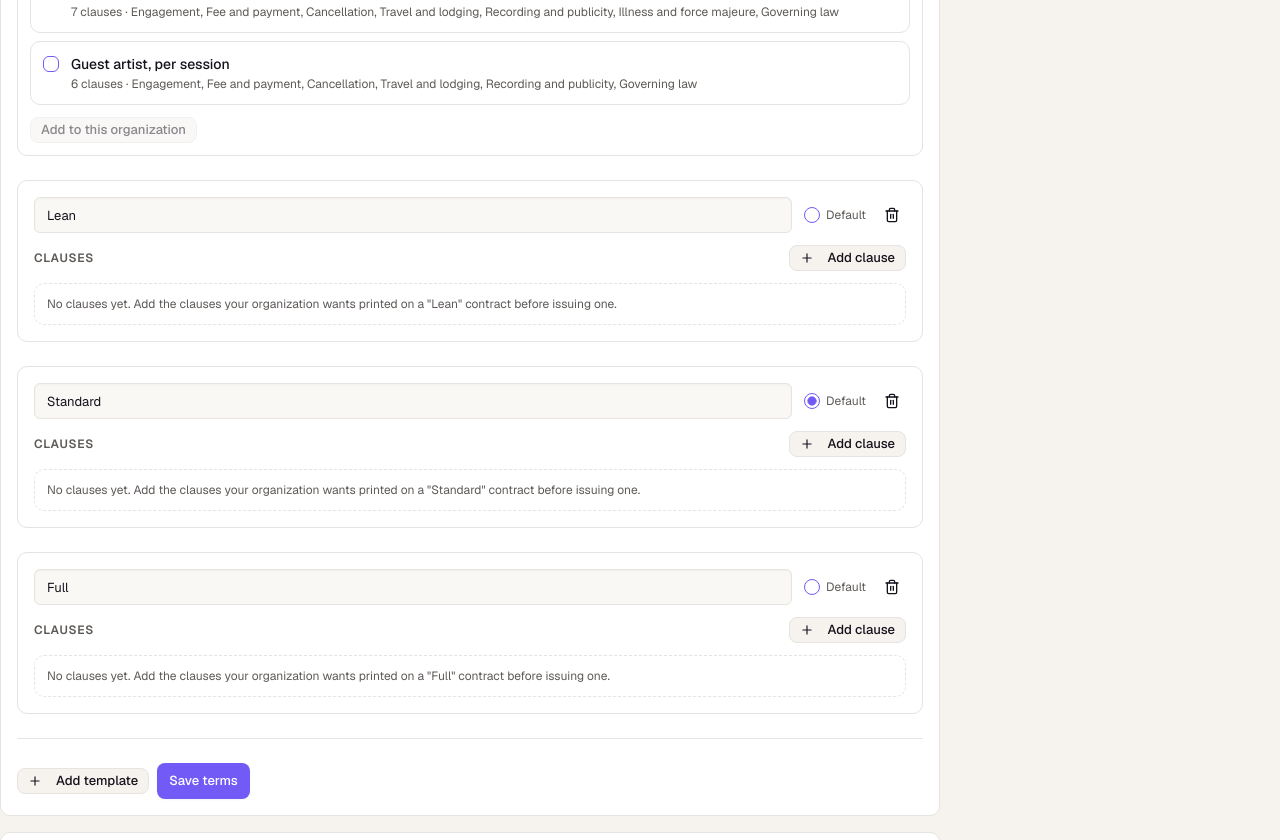
Test: HireOrdersTab › adds and removes clause rows on a variant that starts empty
(page scrolled)
Click the 2nd button "Add clause".
click(847, 444)  # box [788,431,906,457]
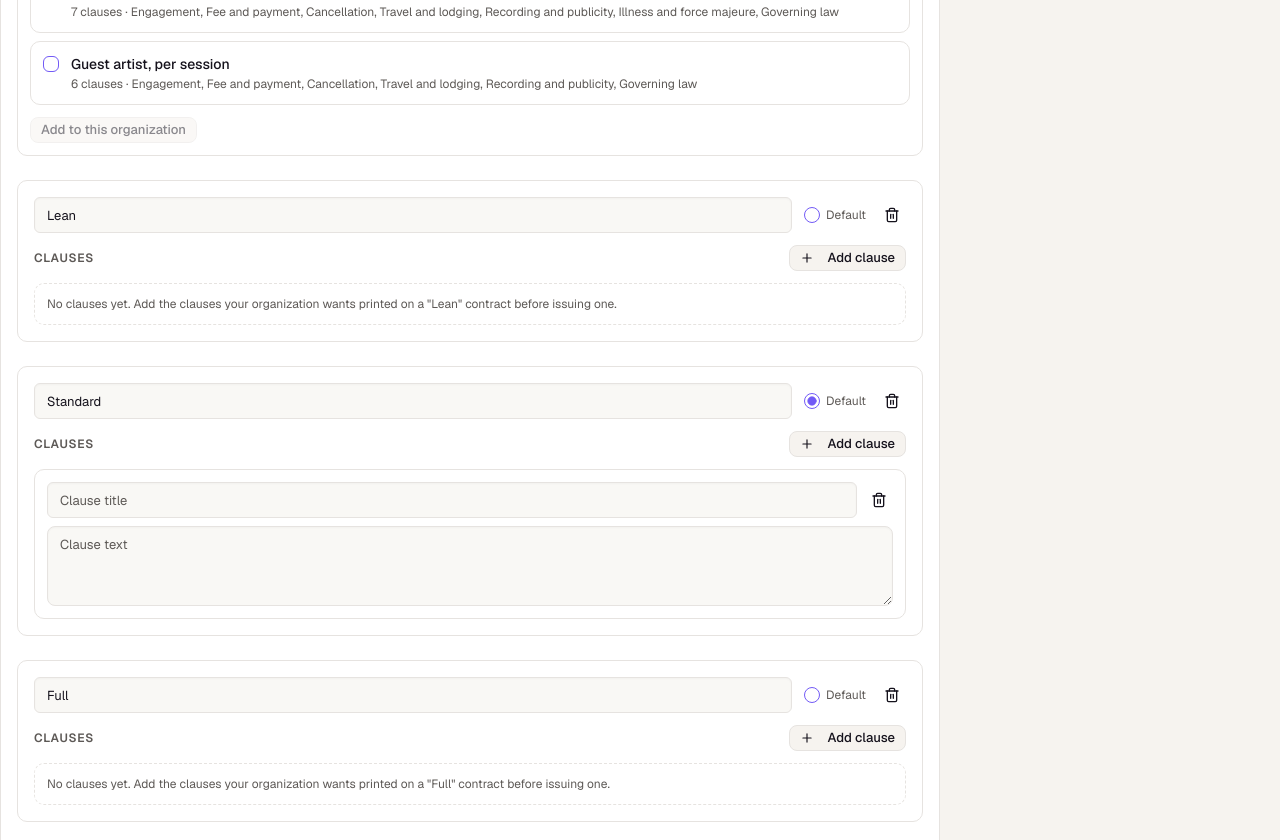
Click the 2nd button "Add clause".
click(847, 444)  # box [788,431,906,457]
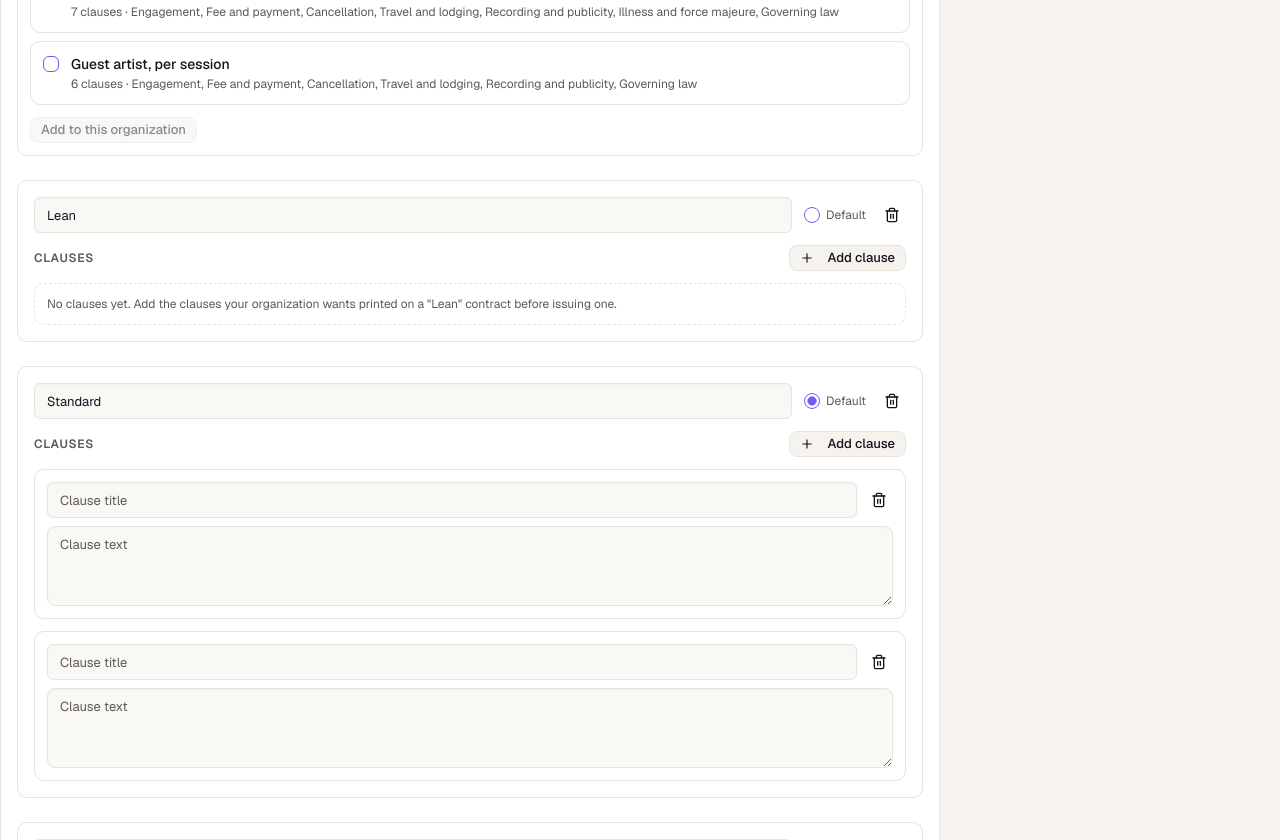
Expected: the number of fields labelled "Clause title" is 2
Type "Clause one" into the field named "standard clause 1 title".
click(452, 500); type("Clause one")  # box [47,482,857,518]
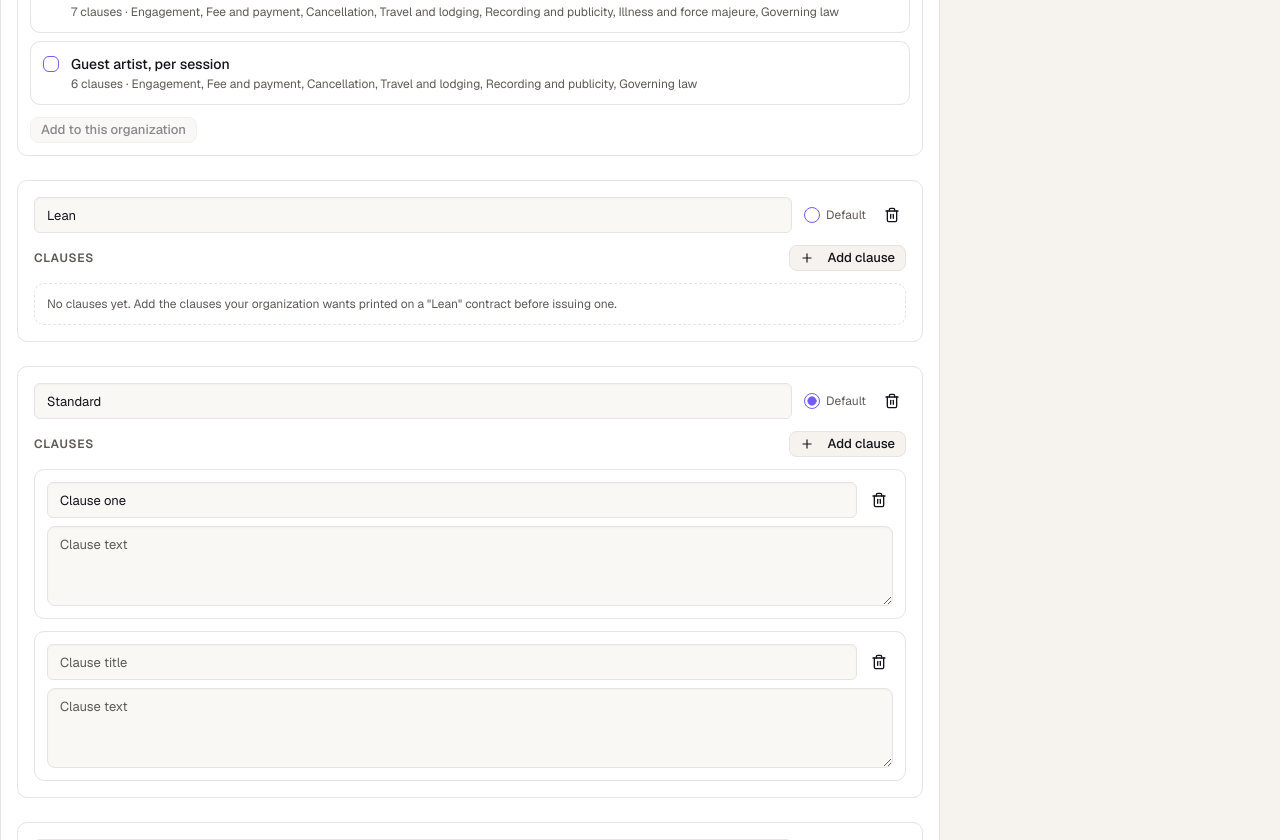
Type "Body text." into the text box named "standard clause 1 body".
click(470, 566); type("Body text.")  # box [47,526,893,606]
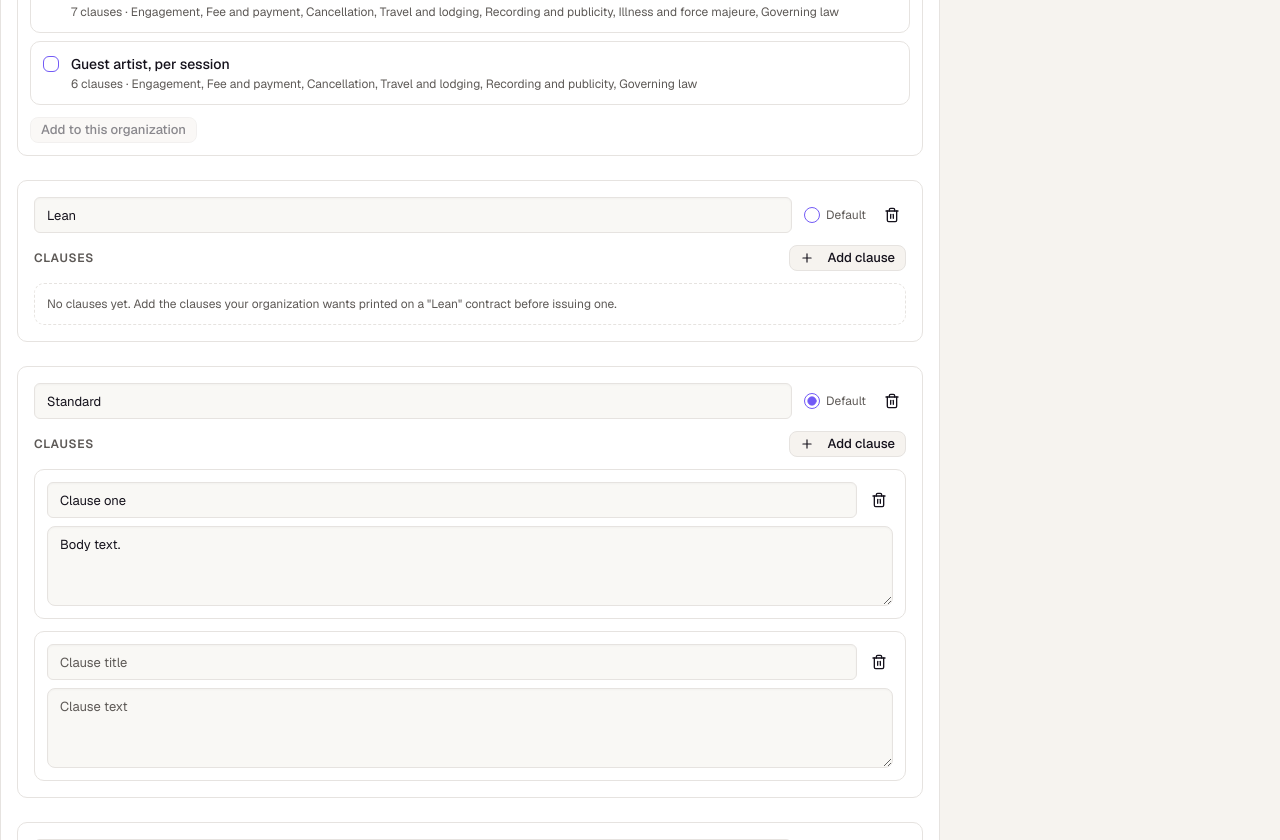
Note: Removing takes it back down, and emptying it restores the empty state.
Click the button named "remove standard clause 1".
click(879, 500)  # box [865,486,893,514]
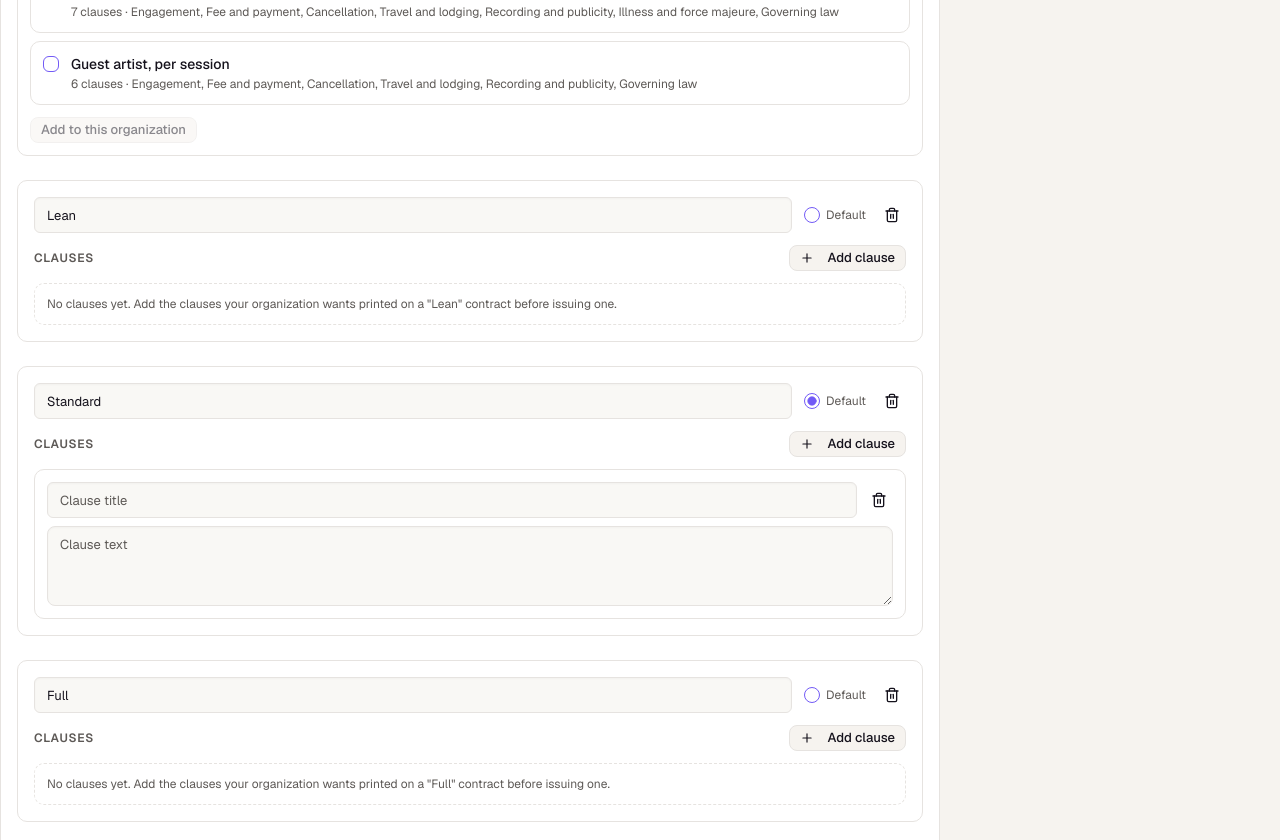
Expected: the number of fields labelled "Clause title" is 1, [47,482,857,518]
Click the button named "remove standard clause 1".
click(879, 500)  # box [865,486,893,514]
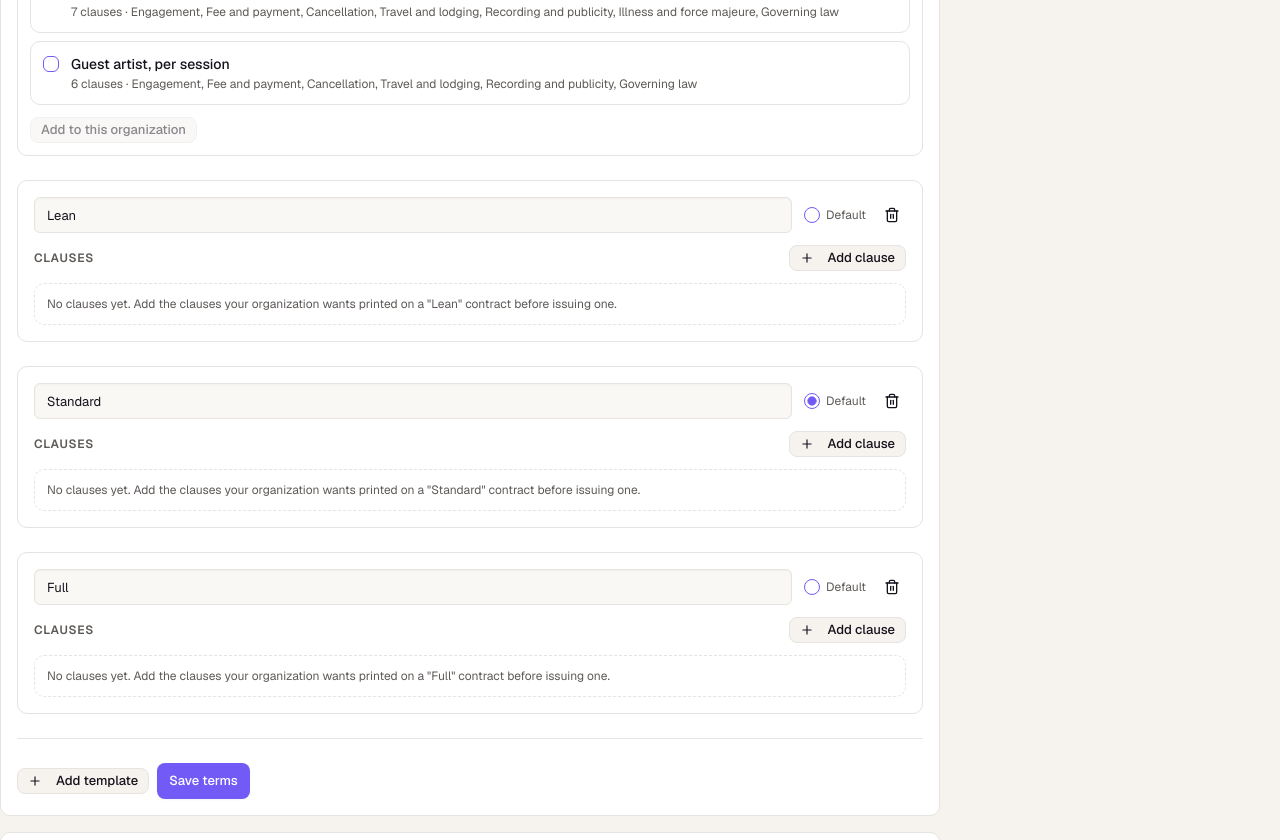
Expected: the text "No clauses yet" is shown, [47,482,640,498]
